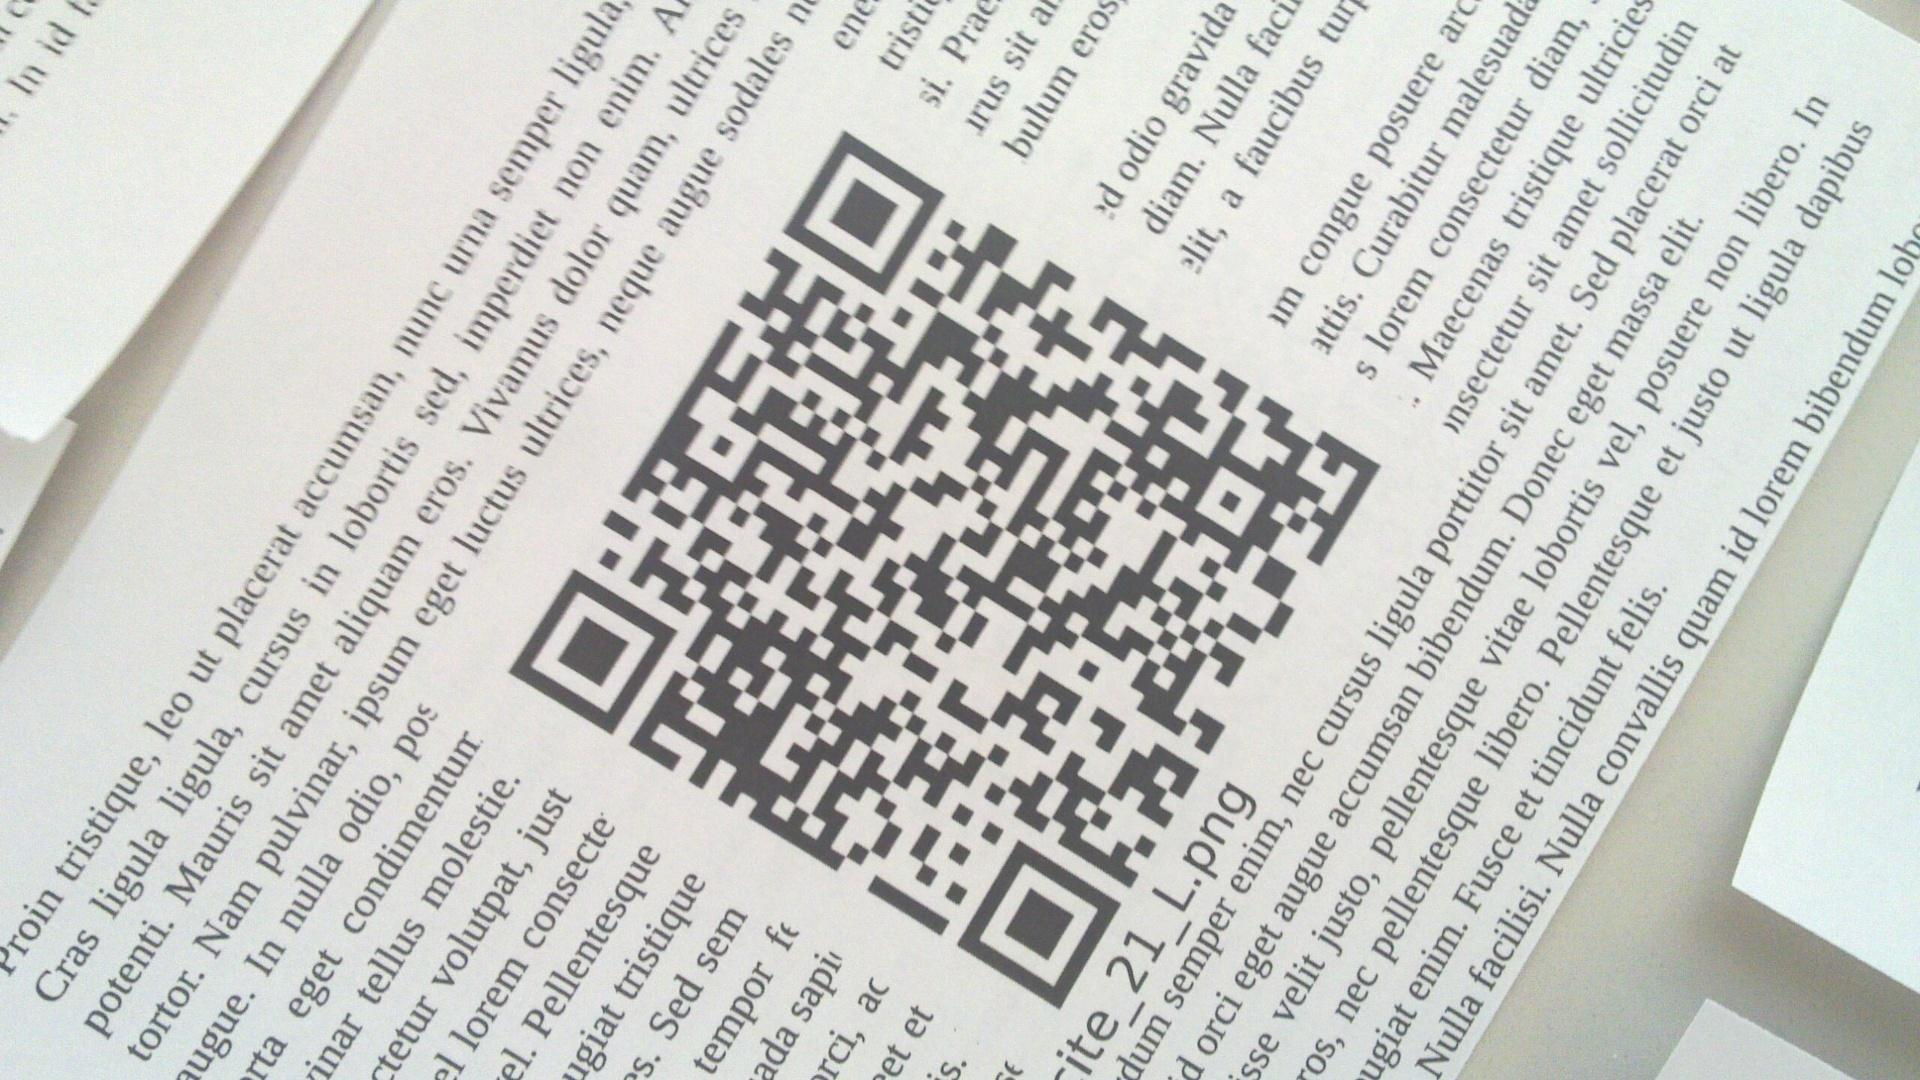Finder pattern: (779, 120, 945, 298), (505, 572, 674, 735), (956, 839, 1120, 986)
